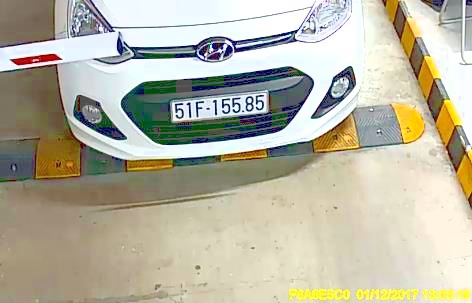plate: (170, 92, 267, 119)
